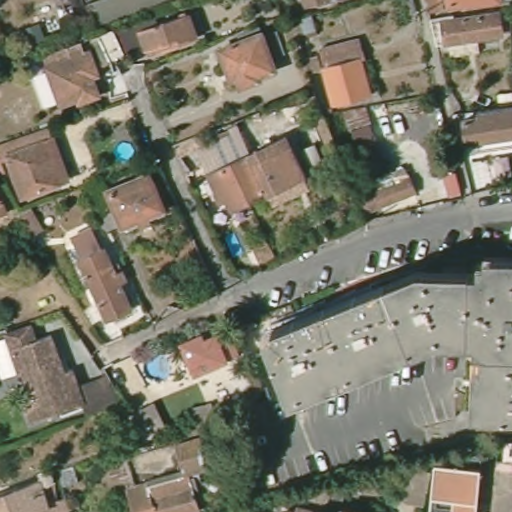pool: (141, 349, 175, 383), (218, 226, 246, 261), (111, 140, 138, 162)
